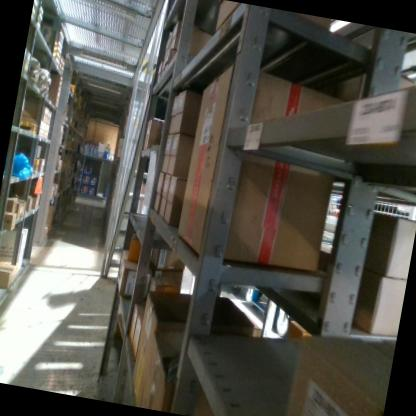pallet: (110, 311, 128, 355)
stillage: (317, 189, 416, 264)
